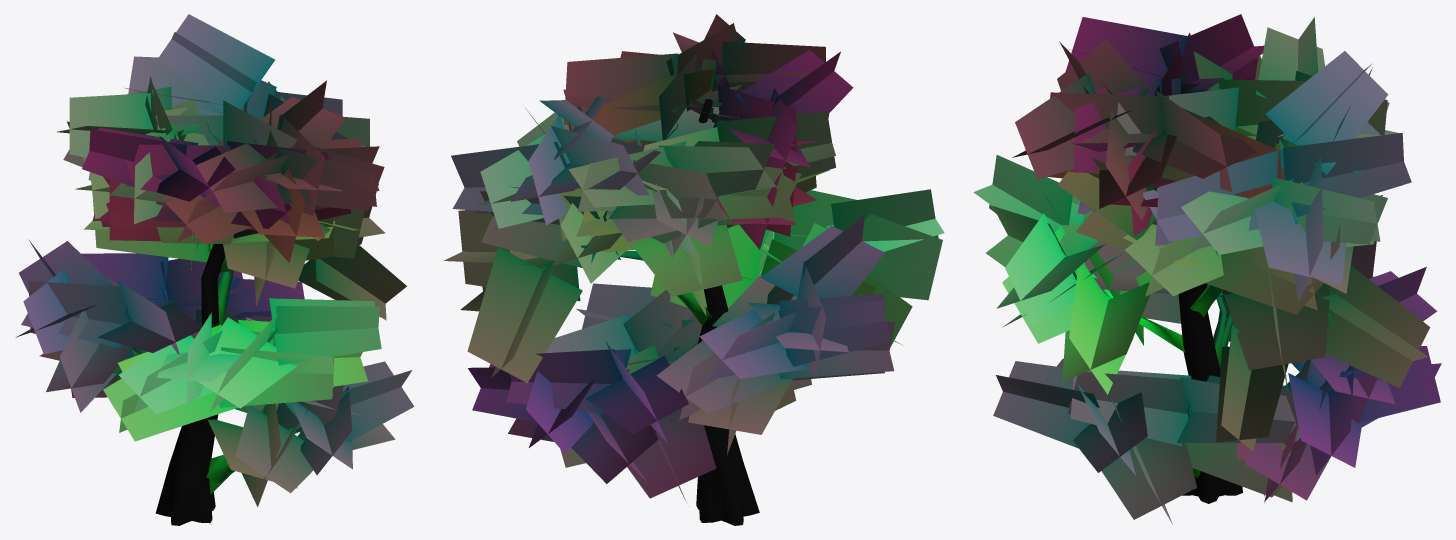
File: M_Realistic12_3.fbx
3 renders of one model, left to right at view 1: azimuth 30°, elevation 25°; view 2: azimuth 150°, elevation 25°; view 3: azimuth 270°, elevation 25°, orthographic. The views are drawn at different scales.
Visible parts, largest first — view 1: Tree_3; view 2: Tree_3; view 3: Tree_3.
Boxes of the visible parts, x1,y1,x2,y2 form: Tree_3: (15,14,414,525); Tree_3: (443,14,944,525); Tree_3: (973,14,1441,524).
Size of the model in its own units: 1303 by 1364 by 1241.
